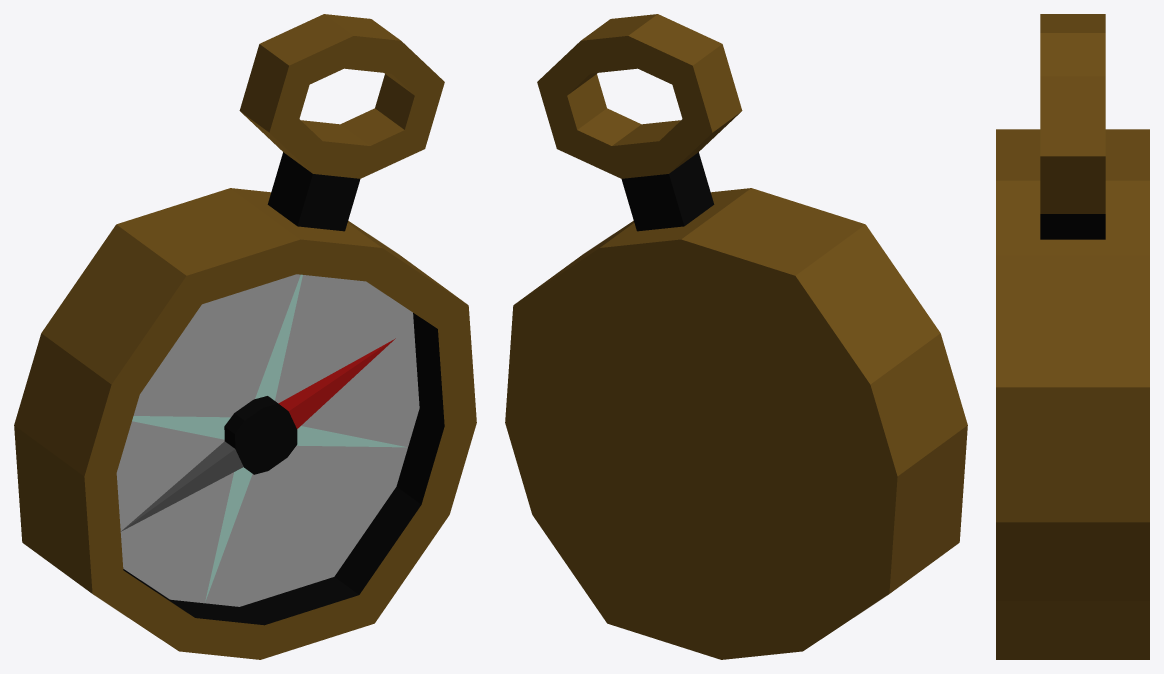
File: ObjetoBrujulaDestino.fbx
The picture shows the model from 3 angles, left to right: view 1: azimuth 30°, elevation 25°; view 2: azimuth 150°, elevation 25°; view 3: azimuth 270°, elevation 25°; orthographic projection. The views are drawn at different scales.
Visible parts, largest first — view 1: Brujula; view 2: Brujula; view 3: Brujula.
Part boxes in pixels (x1,y1,x2,y2): Brujula: [14, 14, 476, 659]; Brujula: [505, 14, 967, 659]; Brujula: [996, 14, 1149, 659].
Bounding box in the file's own units: 44.9 × 63.58 × 13.93.
